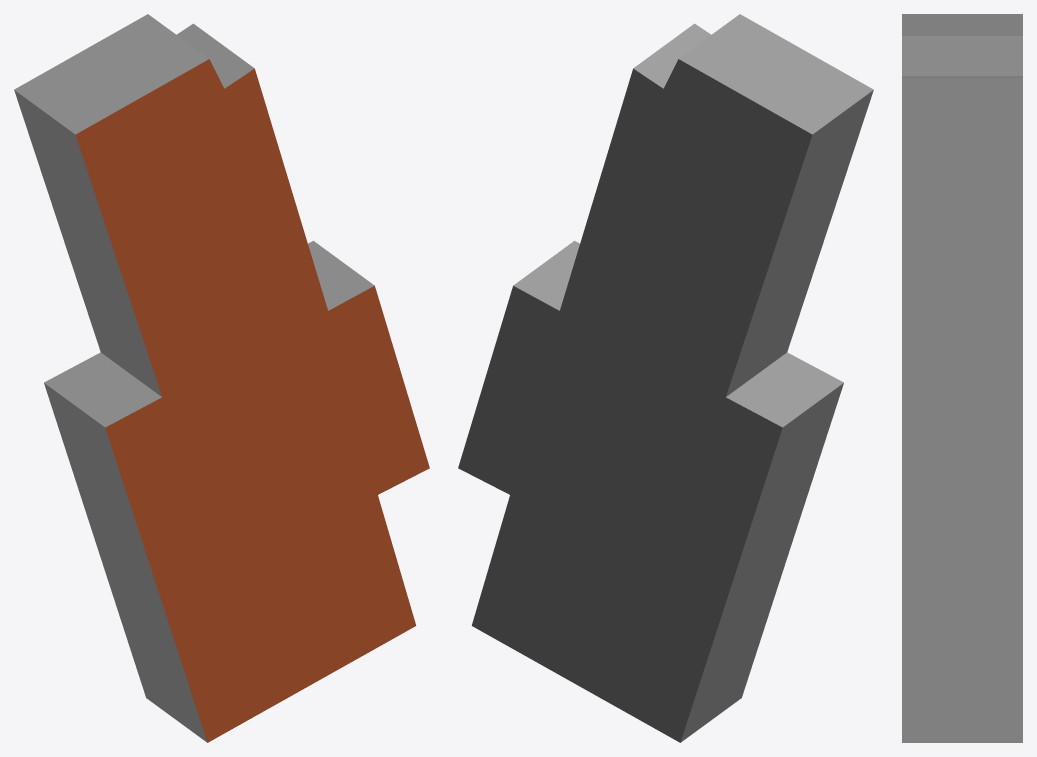
Rendered from construction_0356_assumed_A_Casa_h6m.obj.
The picture shows the model from 3 angles, left to right: view 1: azimuth 30°, elevation 25°; view 2: azimuth 150°, elevation 25°; view 3: azimuth 270°, elevation 25°; orthographic projection.
Parts seen in each view (by area): view 1: construction_0356_assumed_A_Casa; view 2: construction_0356_assumed_A_Casa; view 3: construction_0356_assumed_A_Casa.
Part boxes in pixels (x1,y1,x2,y2): construction_0356_assumed_A_Casa: (14, 14, 429, 742); construction_0356_assumed_A_Casa: (458, 14, 873, 742); construction_0356_assumed_A_Casa: (902, 14, 1022, 742).
Bounding box in the file's own units: 19.99 × 36.83 × 6.
